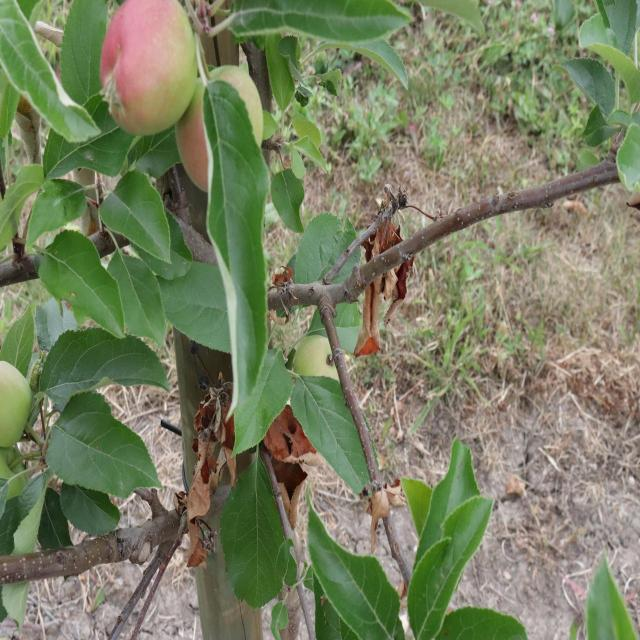-FireBlight-: (186, 385, 233, 565), (353, 219, 409, 356), (265, 416, 309, 516), (366, 482, 404, 530)
